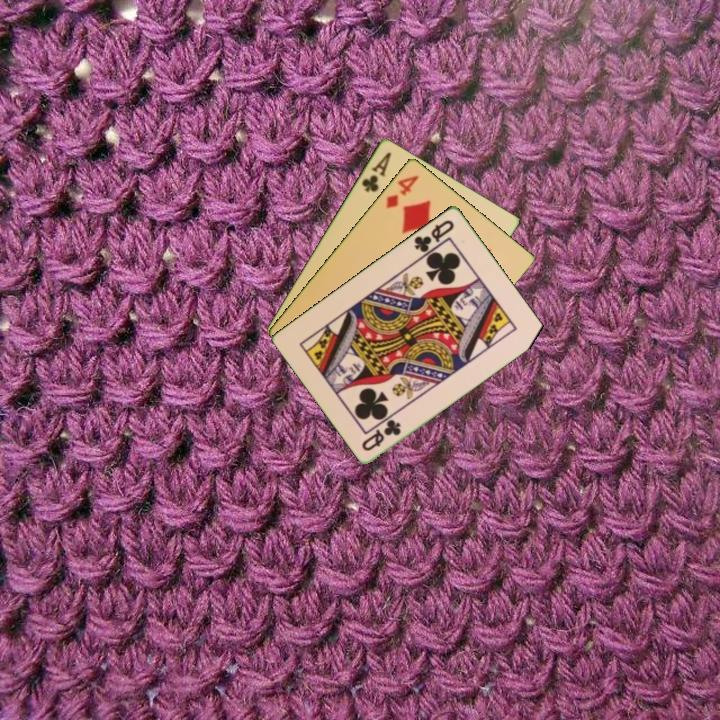4d: (382, 171, 422, 211)
Ac: (358, 147, 394, 195)
Qc: (410, 216, 457, 255), (358, 415, 404, 454)
